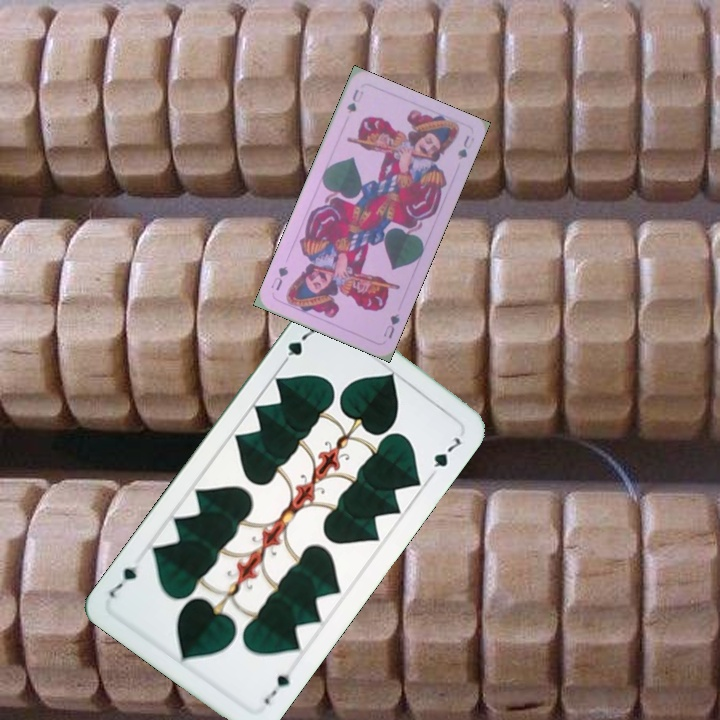G7: (276, 320, 318, 370), (260, 669, 293, 707)
GU: (379, 310, 402, 341), (343, 85, 366, 116)
